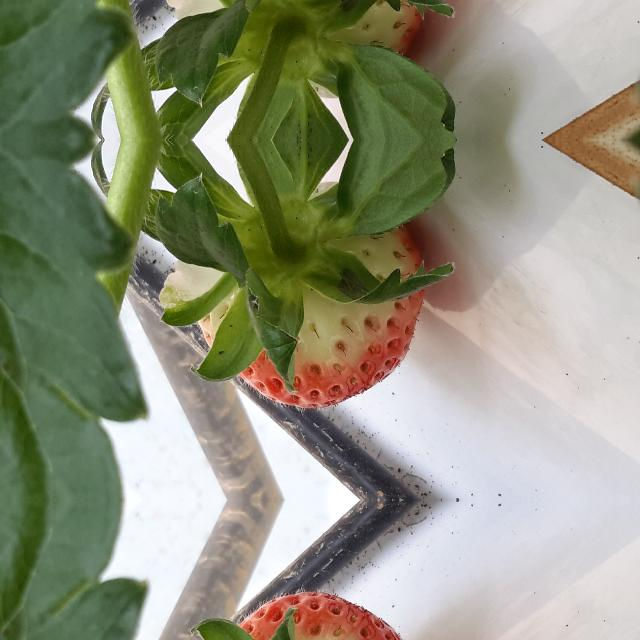Health_100: (196, 224, 428, 408), (196, 0, 427, 56), (196, 591, 427, 640)
